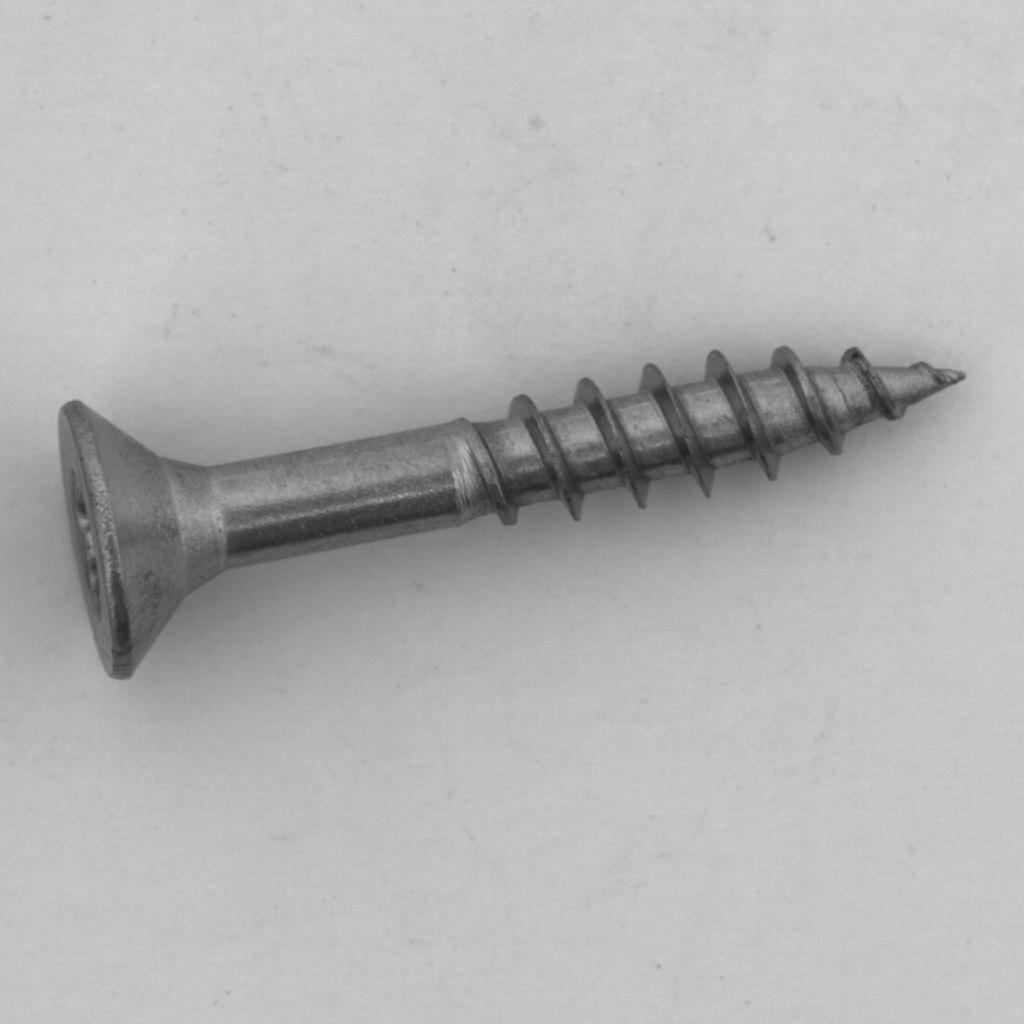good: (45, 320, 985, 703)
